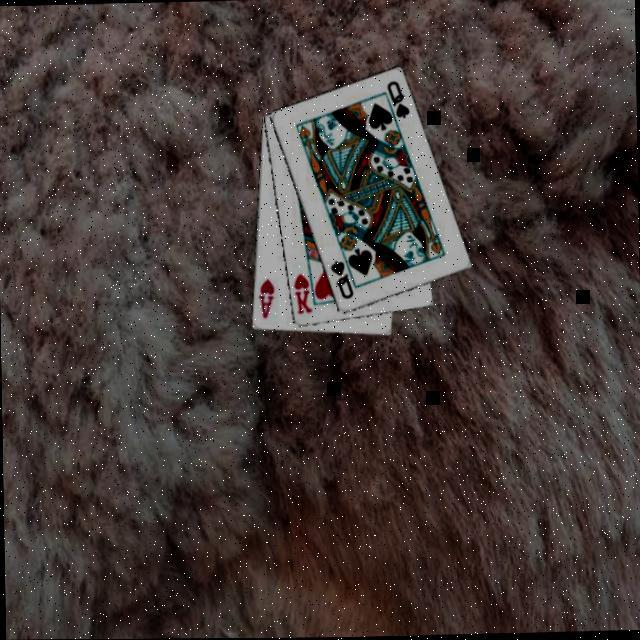AH: (256, 276, 278, 320)
KH: (292, 270, 316, 316)
QS: (328, 257, 358, 301), (384, 76, 414, 120)
